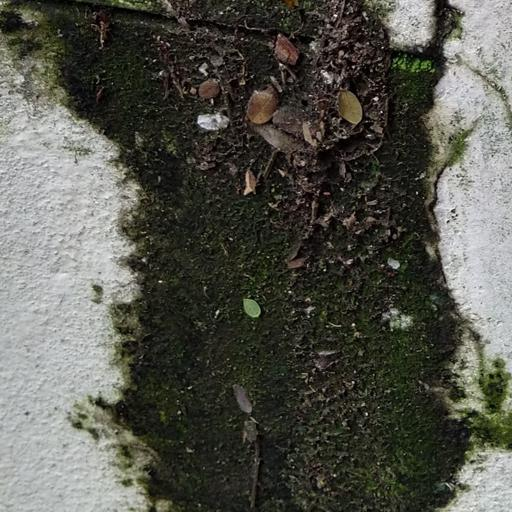algae: (54, 3, 494, 512)
